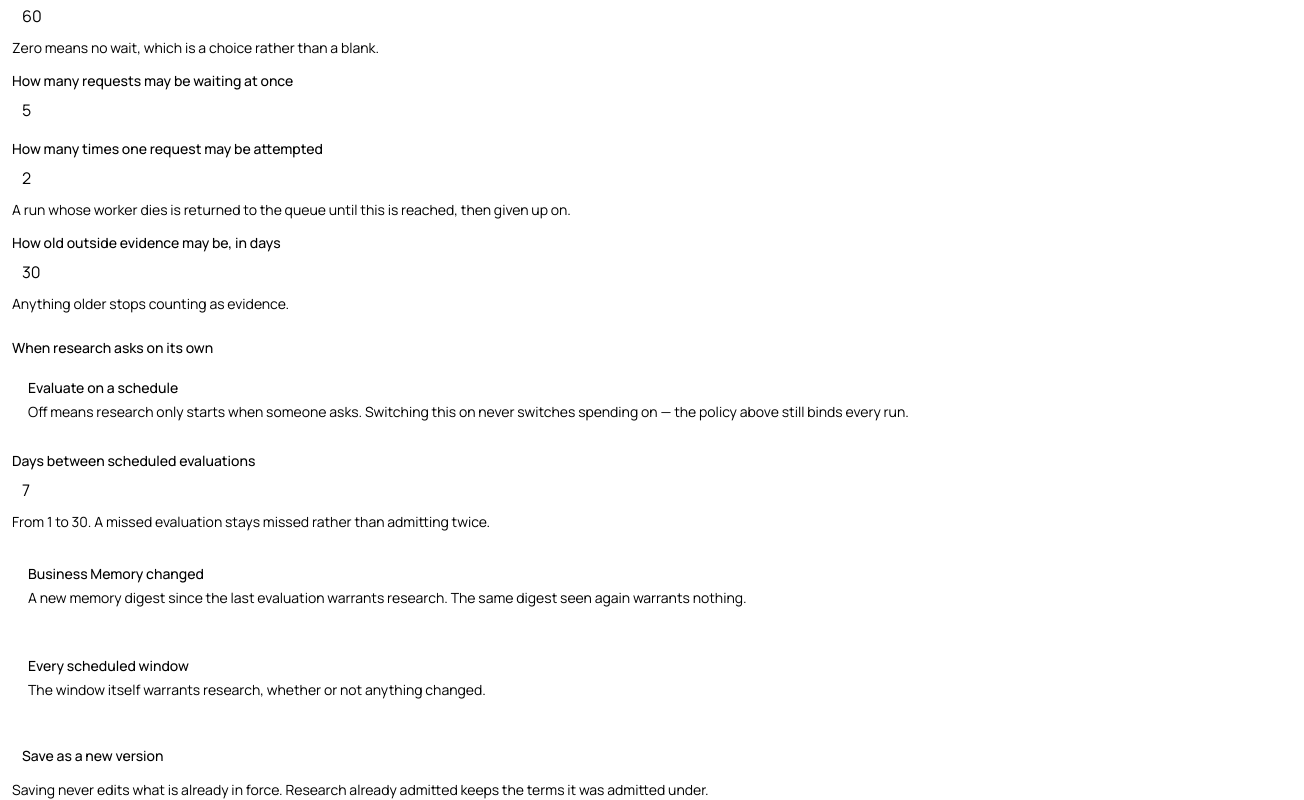
Test: when research asks on its own › refuses a cadence outside 1 to 30 days
(page scrolled)
Replace the text in the field labelled "Days between scheduled evaluations" with "45" at (652, 490), box [12,474,1292,506]
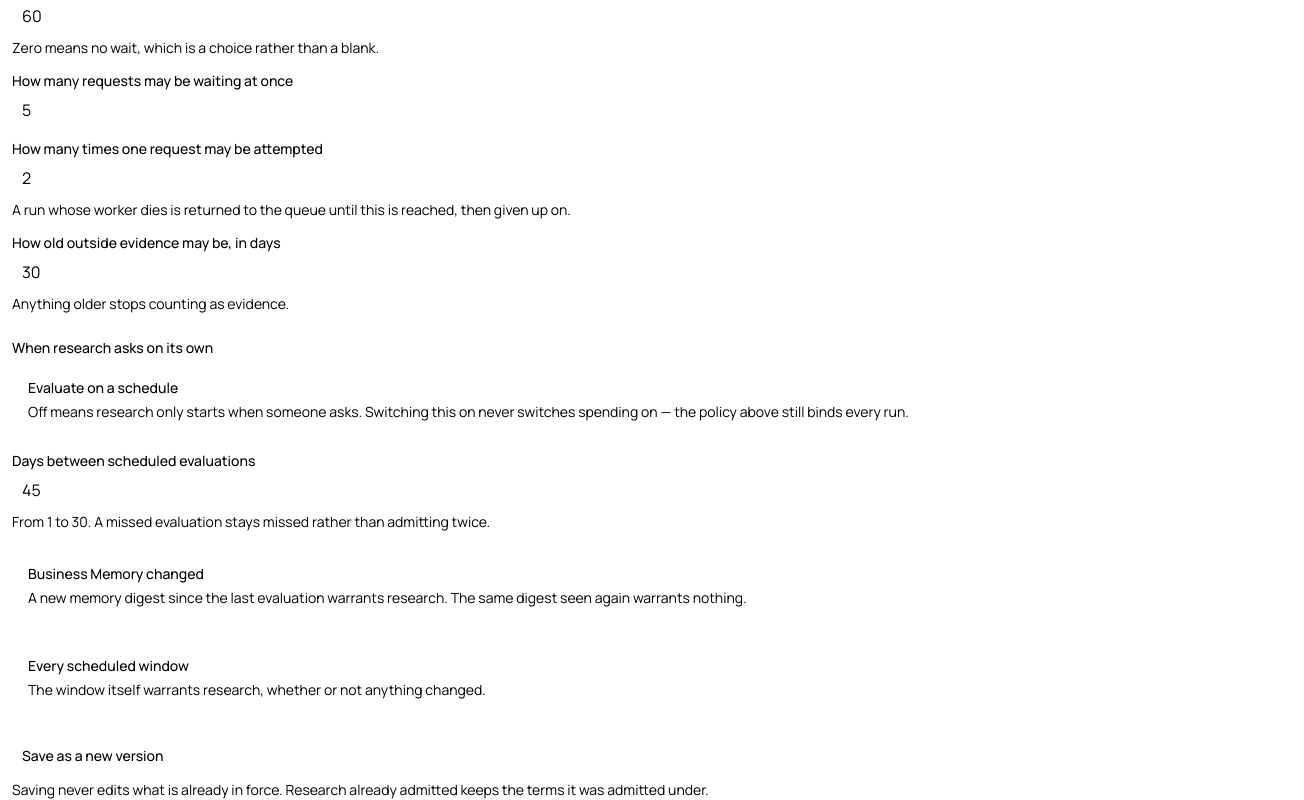
Click the button "Save as a new version" at (93, 756), box [12,740,173,772]
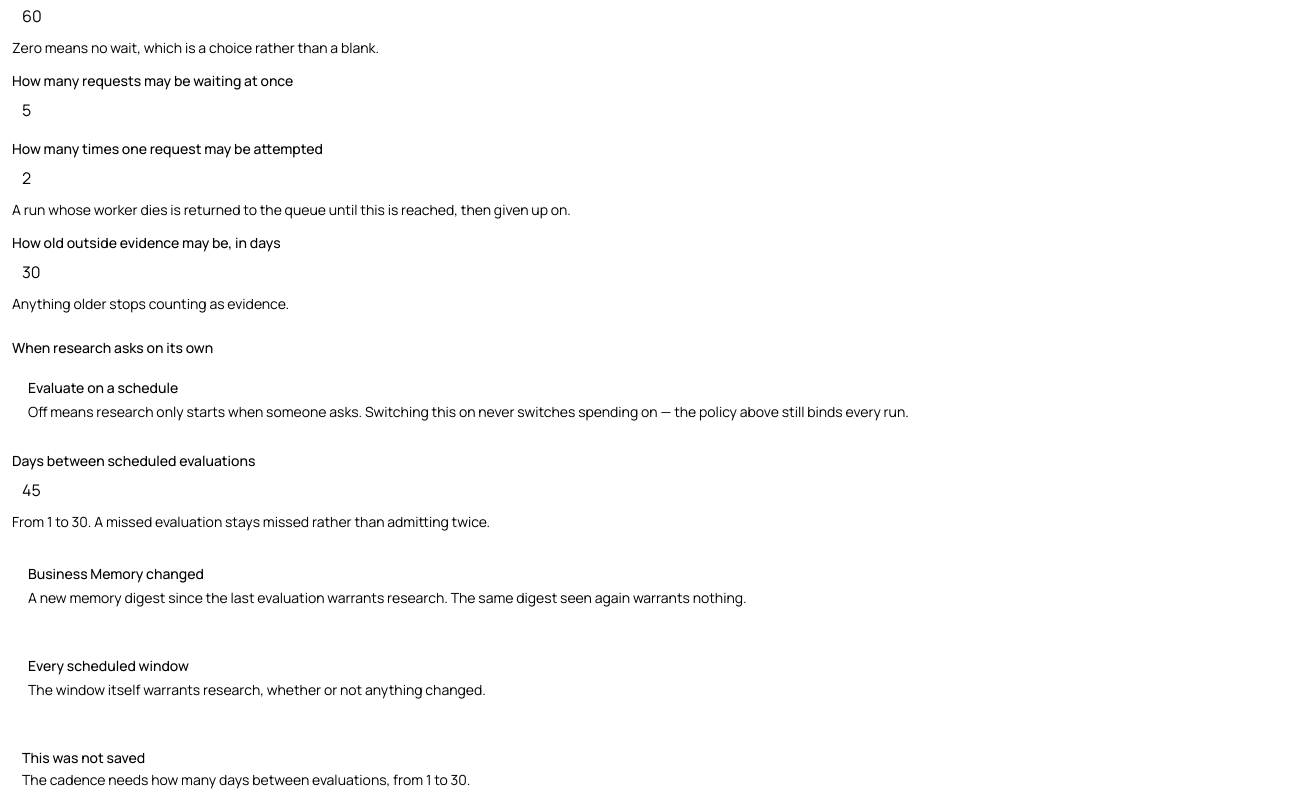
Now the message shows "from 1 to 30", box [22,770,470,789]
